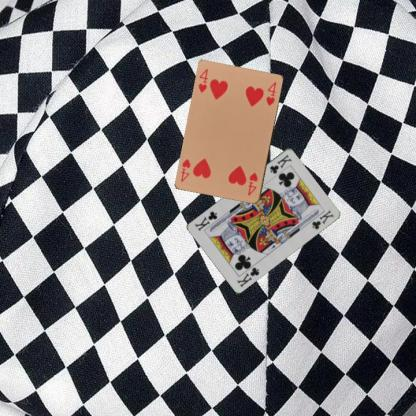4h: (245, 170, 259, 197), (196, 67, 209, 94)
Kc: (267, 151, 293, 175), (235, 264, 260, 288)
